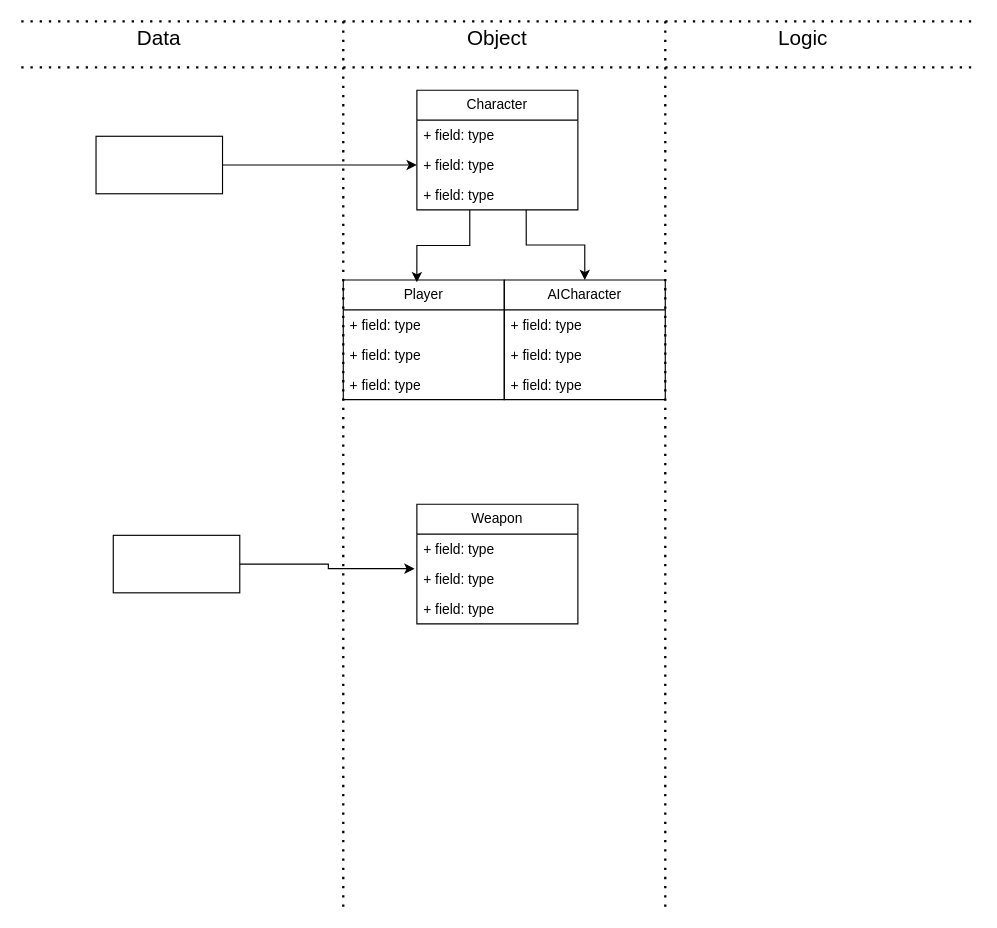
Image size: 997x928. Some labels were removed from this diagram. The shapes that lost their labels are listed below. From the top down, each one's centre as x and y in pixels, then its label:
At [159,164]: "ChracterData".
At [176,563]: "WeaponData".
